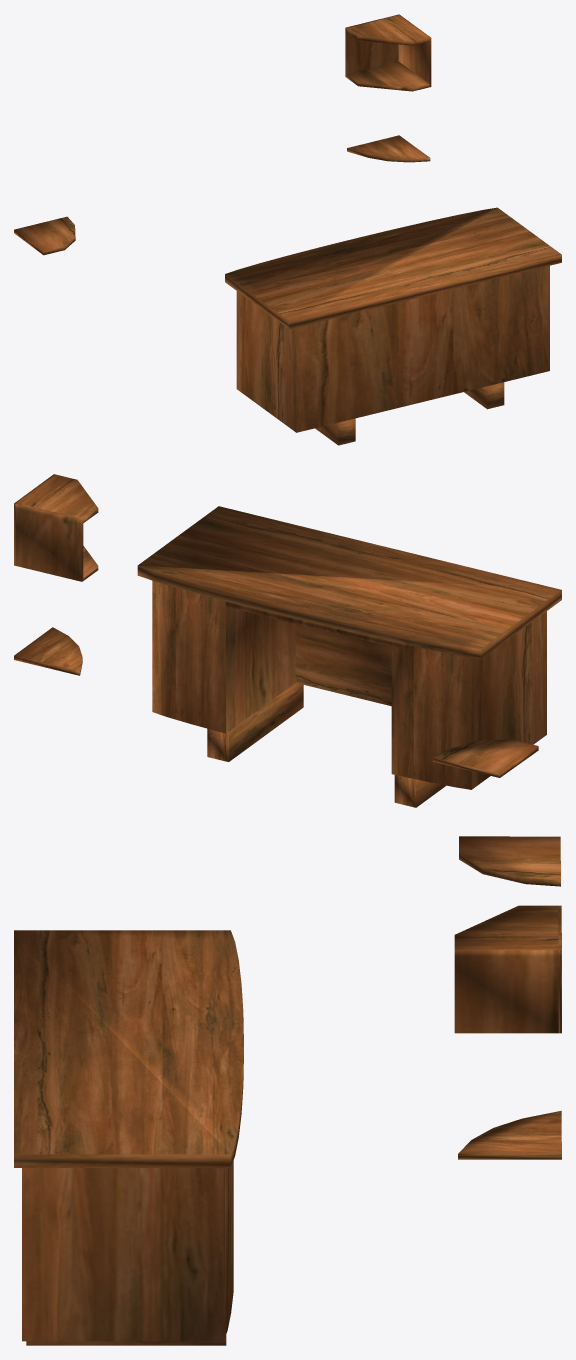
File: Desk_Captain.obj
The picture shows the model from 3 angles, top to bottom: view 1: azimuth 30°, elevation 25°; view 2: azimuth 150°, elevation 25°; view 3: azimuth 270°, elevation 25°; orthographic projection. The views are drawn at different scales.
Visible parts, largest first — view 1: Desk_Captain.obj; view 2: Desk_Captain.obj; view 3: Desk_Captain.obj.
Boxes of the visible parts, bbox=[...] form: Desk_Captain.obj: bbox=[14, 14, 561, 445]; Desk_Captain.obj: bbox=[14, 474, 561, 807]; Desk_Captain.obj: bbox=[14, 836, 561, 1345].
Size of the model in its own units: 13.89 by 8.97 by 10.13.
